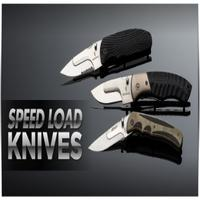knife: (48, 28, 165, 82), (78, 111, 189, 167), (84, 73, 198, 111)
